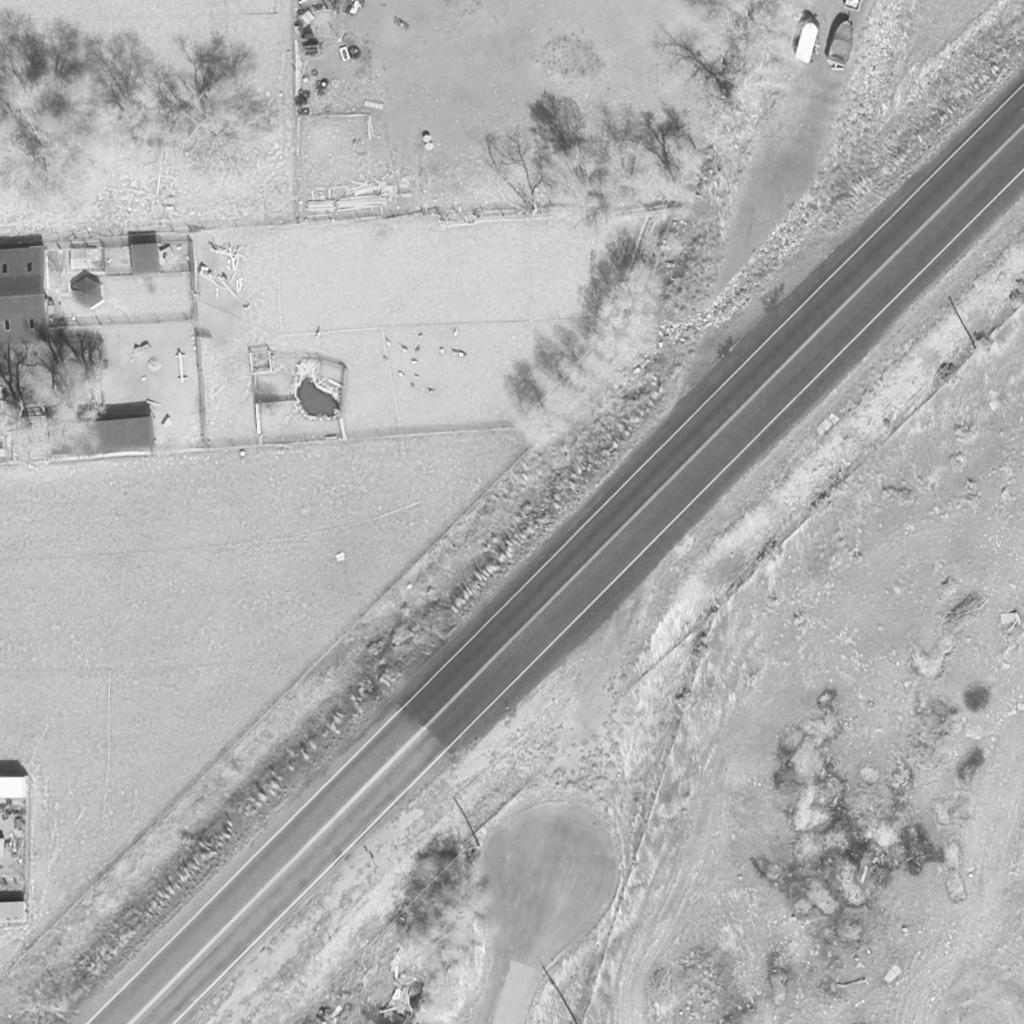vehicle: (828, 16, 860, 66)
